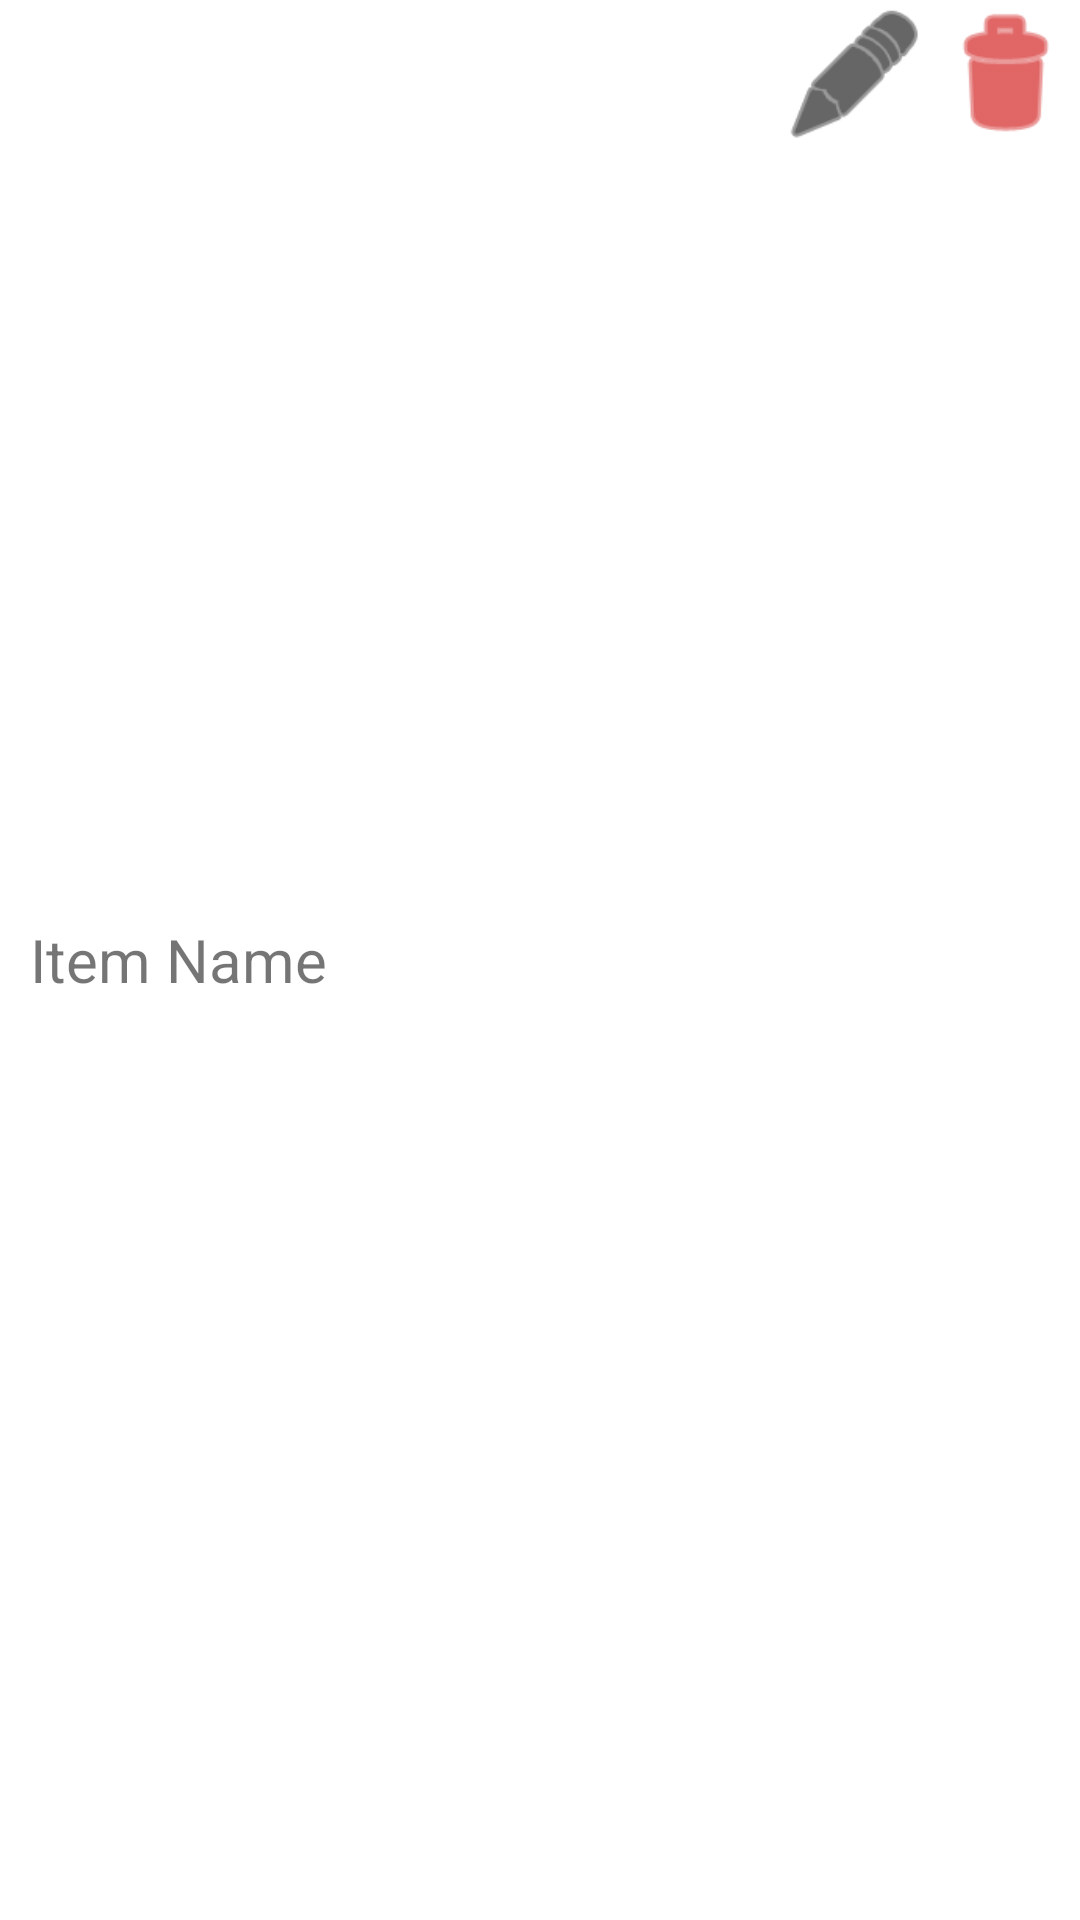

Named icons in this screenshot (1080 × 1920) and their bounding boxes, (x1, y1, x2, y2):
delete: (963, 14, 1048, 131)
edit: (791, 10, 918, 138)
